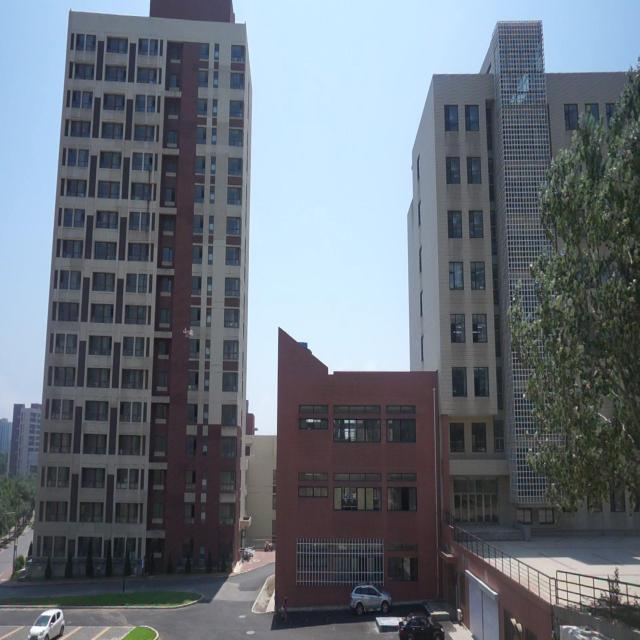drone: (181, 325, 196, 343)
